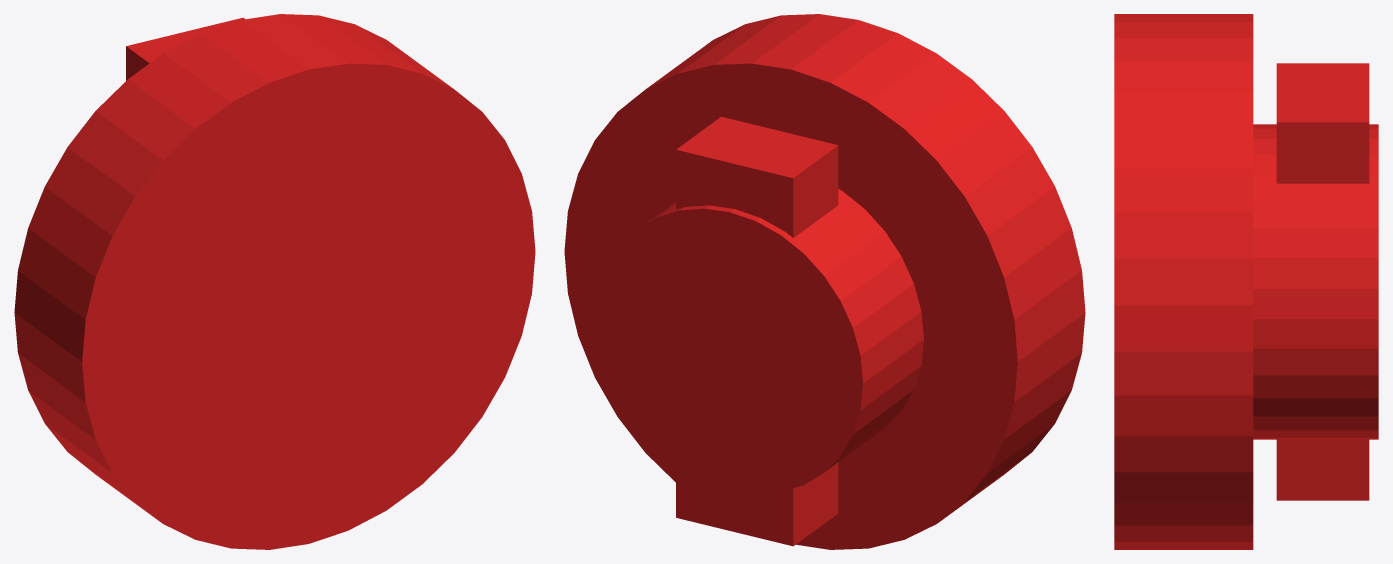
File: 16_centerlock_nut.glb
The picture shows the model from 3 angles, left to right: view 1: azimuth 30°, elevation 25°; view 2: azimuth 150°, elevation 25°; view 3: azimuth 270°, elevation 25°; orthographic projection. The views are drawn at different scales.
Visible parts, largest first — view 1: 16_centerlock_nut; view 2: 16_centerlock_nut; view 3: 16_centerlock_nut.
Part boxes in pixels (x1,y1,x2,y2): 16_centerlock_nut: (14,14,535,549); 16_centerlock_nut: (564,14,1085,549); 16_centerlock_nut: (1114,14,1378,549).
Bounding box in the file's own units: 11.6 × 11.6 × 5.7.
